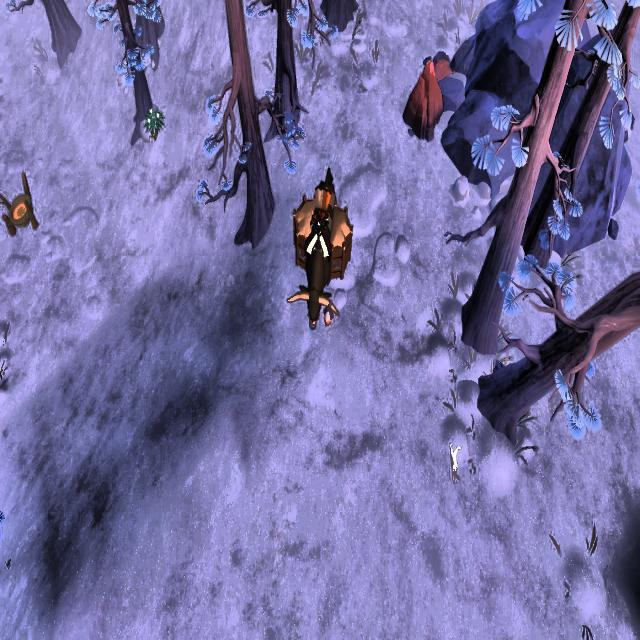fiber_t3: (144, 106, 166, 141)
rock_t5: (399, 56, 442, 146)
